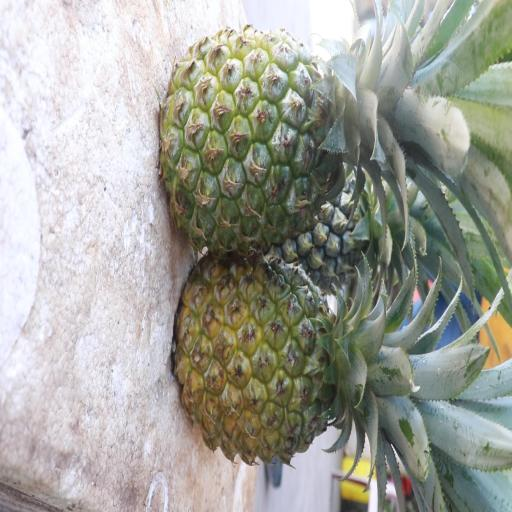------------------------------: (169, 24, 390, 250)
Pineapple - v8 v1: (183, 253, 385, 485)
